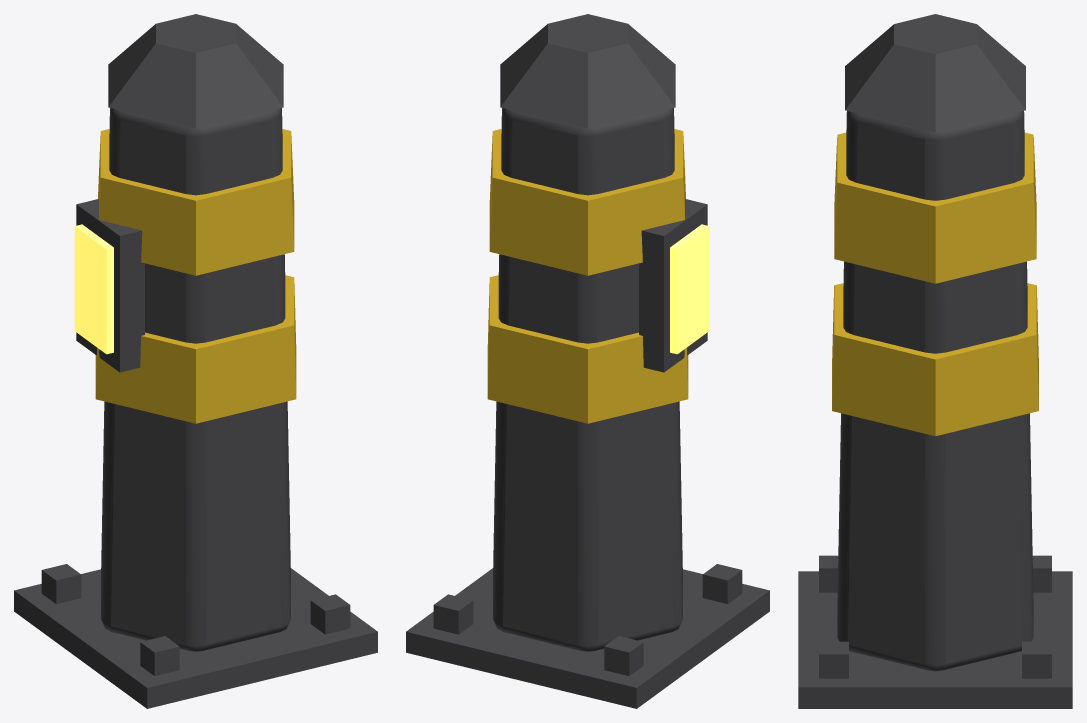
Rendered from bollard.glb.
The picture shows the model from 3 angles, left to right: view 1: azimuth 30°, elevation 25°; view 2: azimuth 150°, elevation 25°; view 3: azimuth 270°, elevation 25°; orthographic projection. The views are drawn at different scales.
Visible parts, largest first — view 1: bollard; view 2: bollard; view 3: bollard.
Boxes of the visible parts, x1,y1,x2,y2 form: bollard: (14, 14, 377, 708); bollard: (406, 14, 769, 708); bollard: (798, 14, 1072, 708).
Size of the model in its own units: 0.46 by 1.14 by 0.46.
